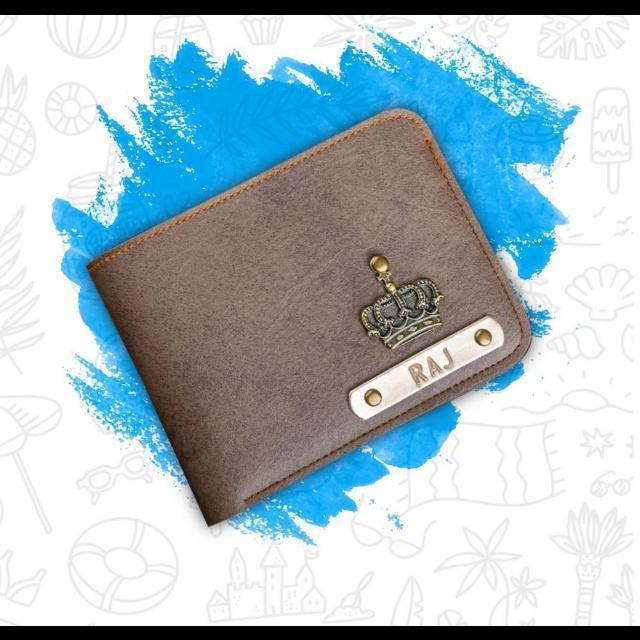wallet: (89, 103, 533, 530)
